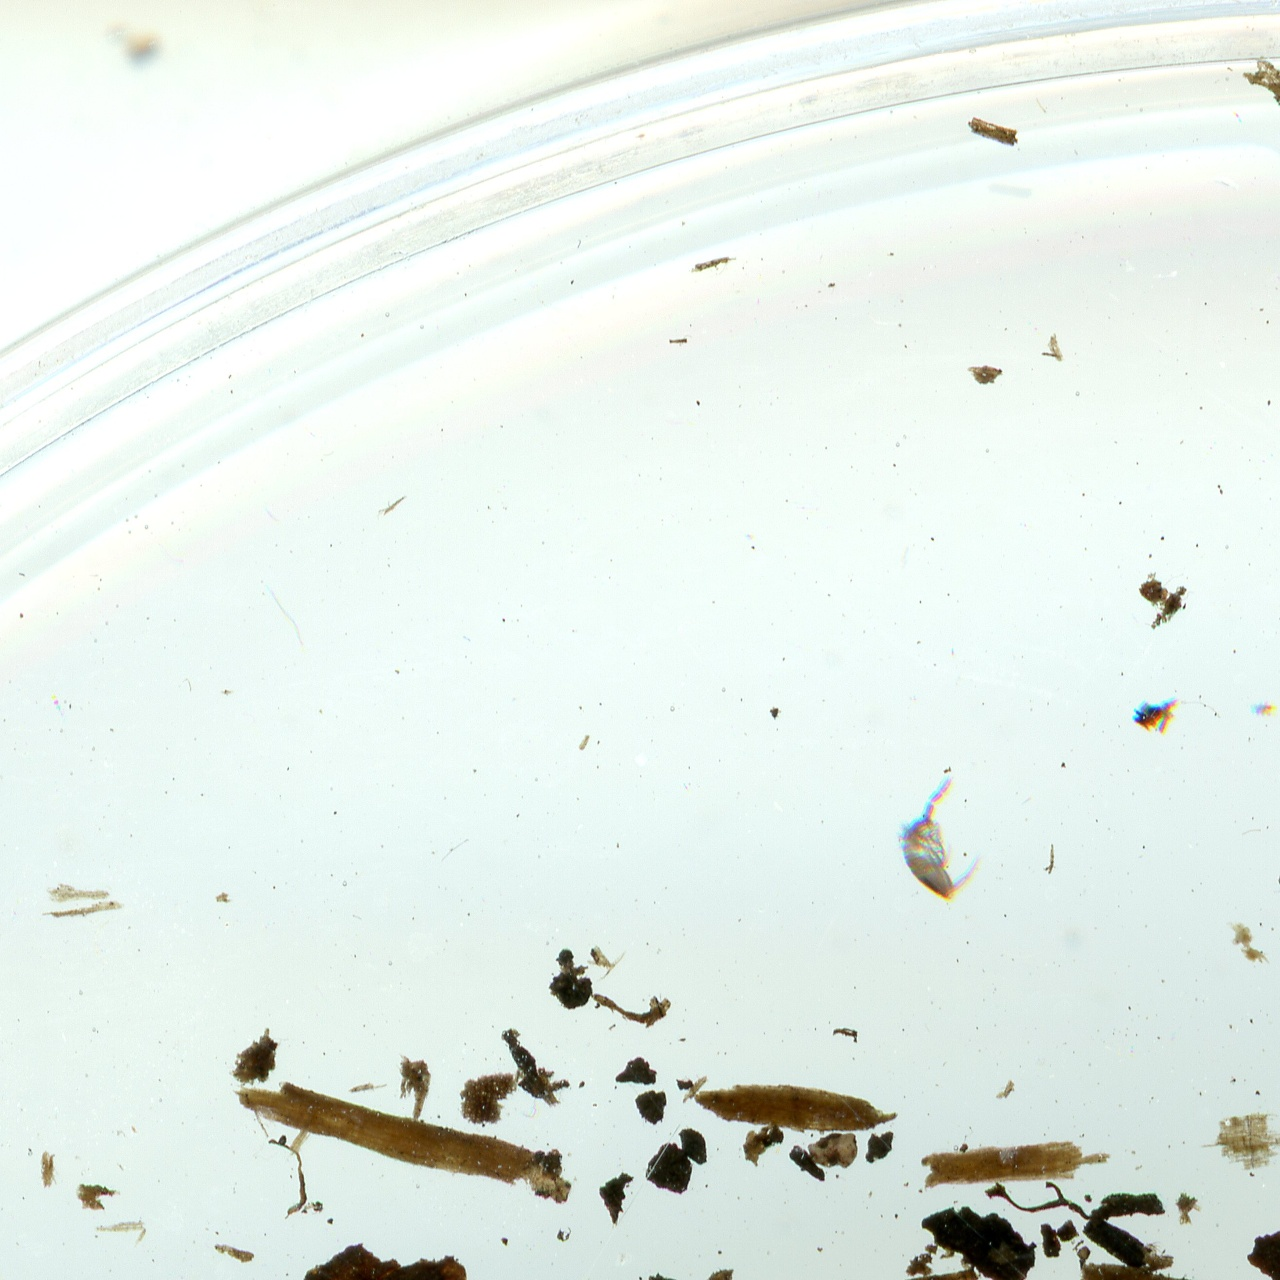arthropod: (894, 771, 985, 903)
